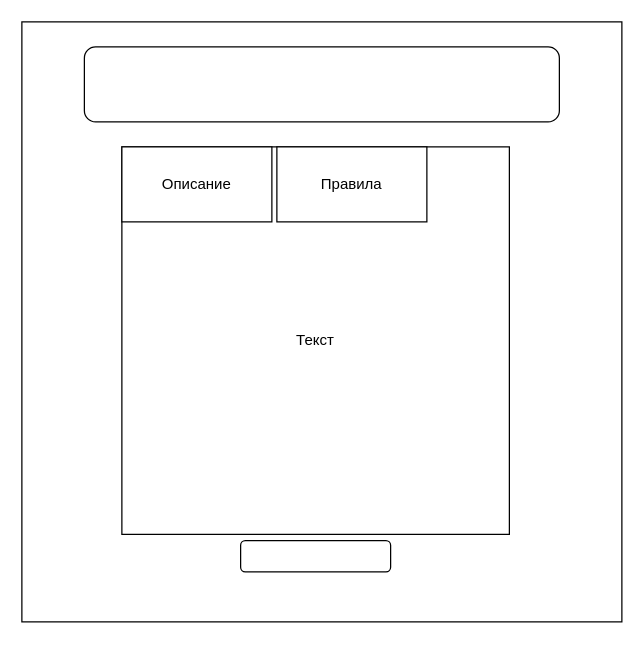
This 644x654 diagram has some shape labels left out. The centre of each missing label's shape, as x and y in pixels:
"start" belongs at point 315,555.
"Название теста" belongs at point 321,84.
